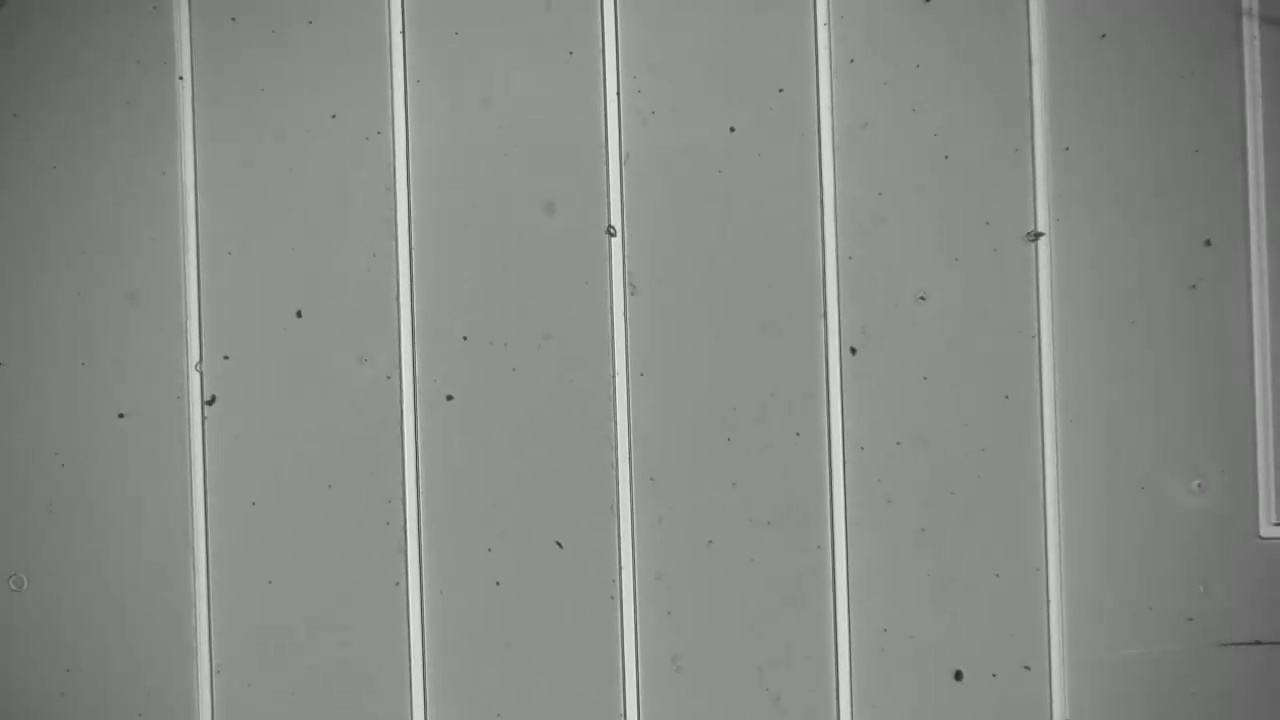edge_bite: (180, 355, 208, 380)
scratch: (1166, 619, 1279, 668)
stains_enbedded: (1020, 221, 1059, 254), (599, 212, 633, 243)
